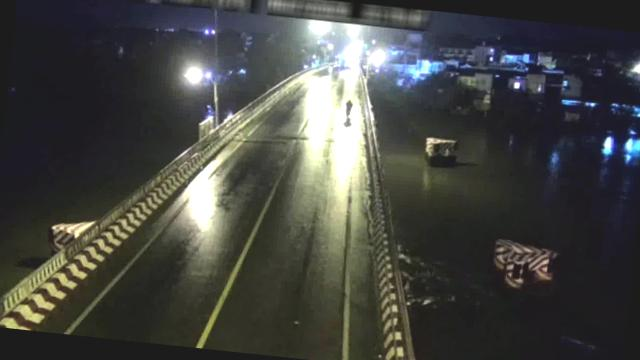Bike: (343, 97, 354, 118)
